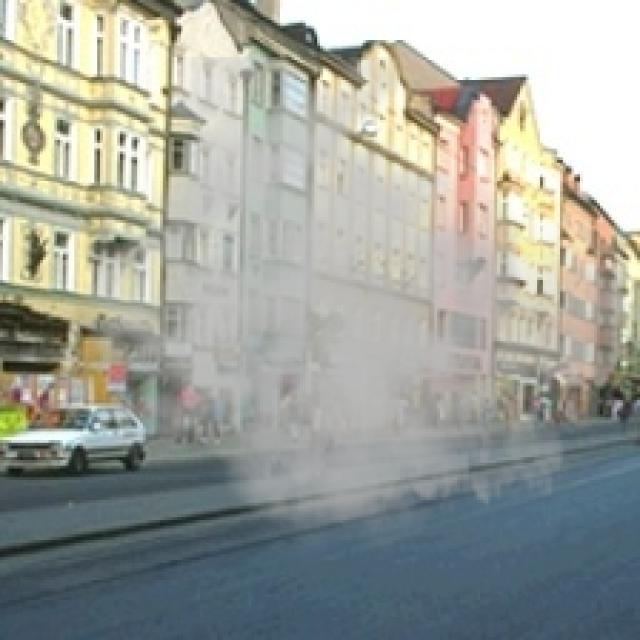smoke: (60, 57, 629, 574)
